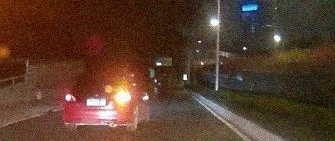L_light: (66, 94, 76, 103)
R_light: (116, 94, 129, 101)
T_light: (100, 76, 108, 78)
night-right: (63, 69, 133, 132)
